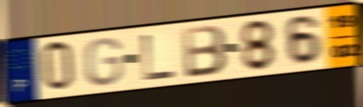0: (39, 39, 77, 95)
6: (282, 13, 325, 68)
8: (239, 18, 278, 73)
B: (181, 23, 229, 80)
G: (84, 36, 125, 88)
L: (140, 32, 178, 83)
